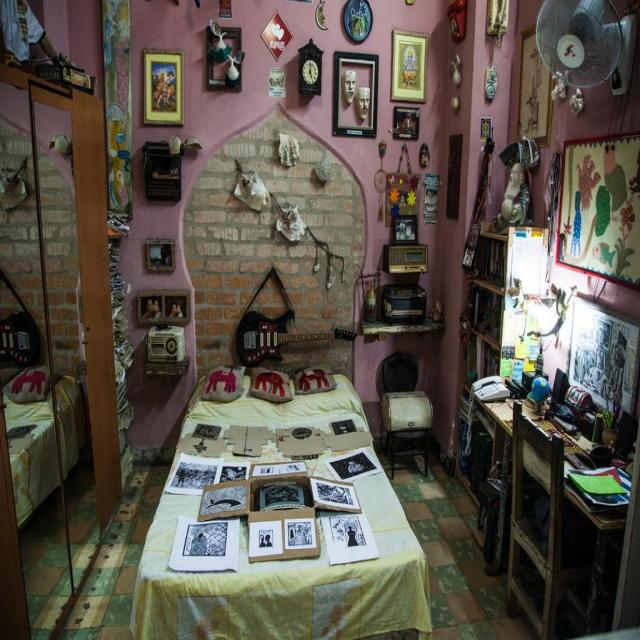table: (470, 379, 626, 632)
